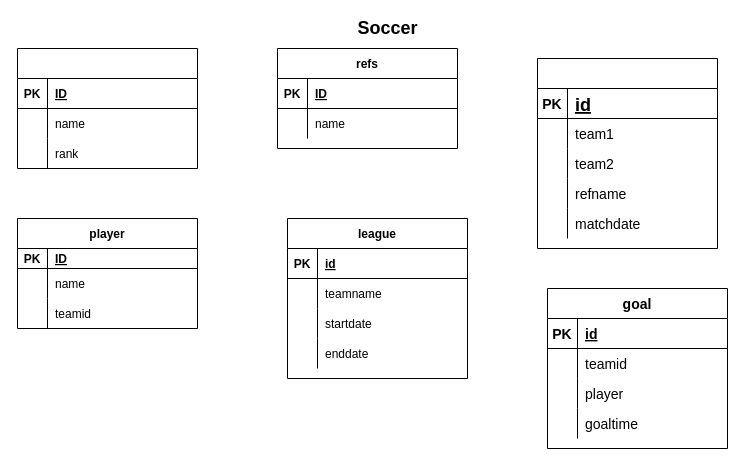
The diagram is 745 pixels wide and 466 high, and some of its shapes have lost their labels. The shapes that lost their labels are listed below. From the top down, each one's box as (x1, y1, x2, y2) in pixels, then its label:
(16, 48, 198, 168): team
(536, 58, 718, 248): game
